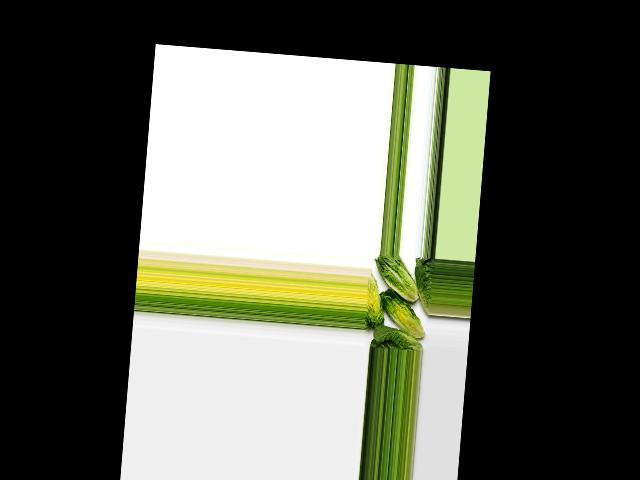lettuce: (369, 322, 423, 352)
